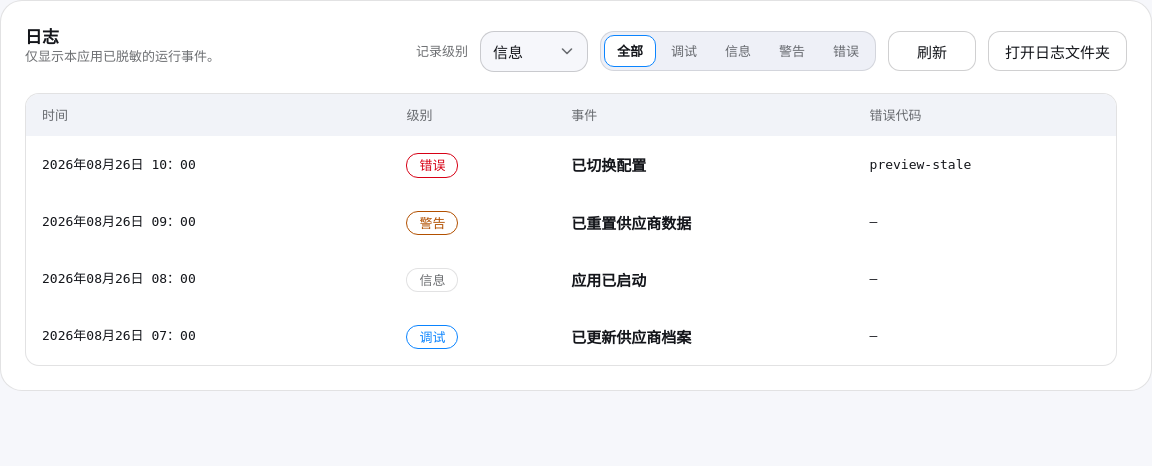
Scenario: LogsPage › reports a folder-open error without hiding the current logs
Expected: the text "已切换配置" is shown, [555,136,854,194]
Click the button "打开日志文件夹".
click(1058, 51)  # box [988,31,1127,71]
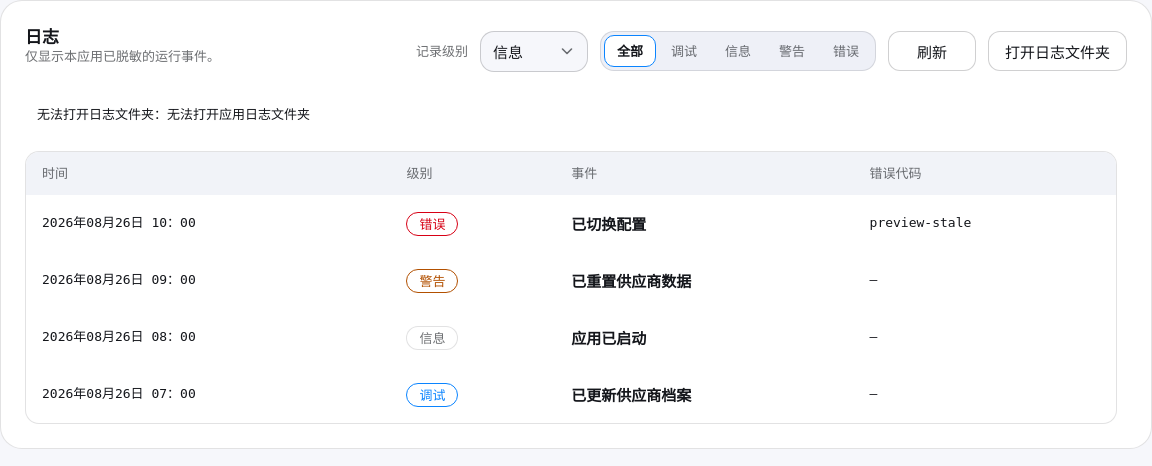
Expected: the text "已切换配置" is shown, [555,195,854,252]
Expected: the message shows "无法打开应用日志文件夹", [167,104,310,123]
